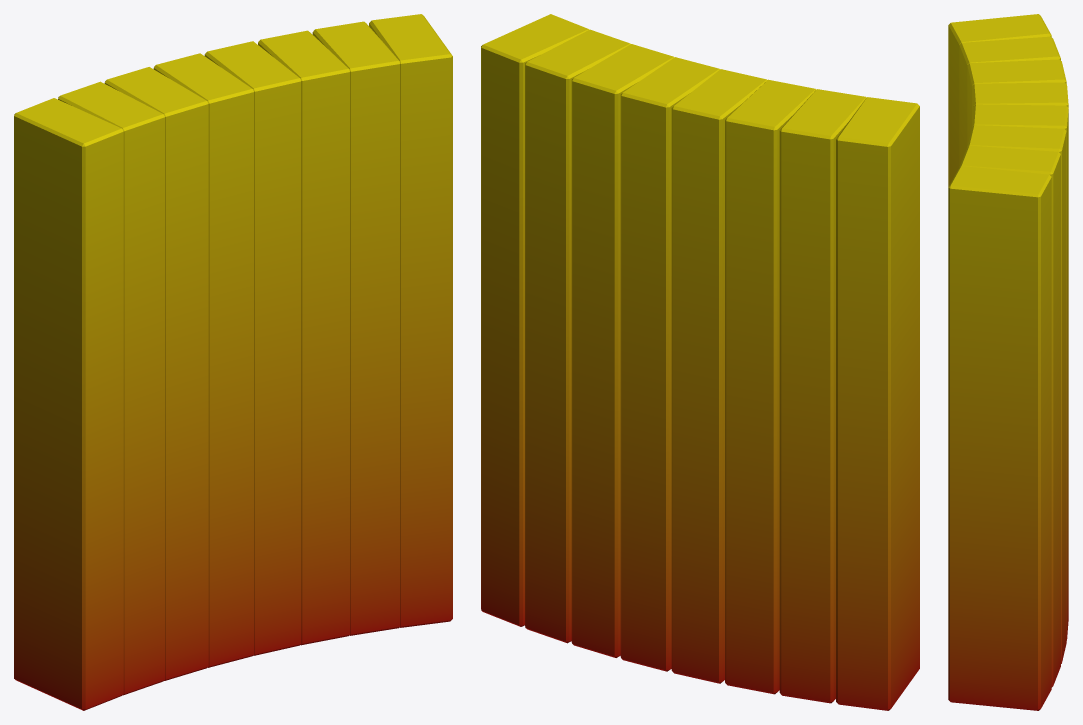
File: wall_arc.glb
The picture shows the model from 3 angles, left to right: view 1: azimuth 30°, elevation 25°; view 2: azimuth 150°, elevation 25°; view 3: azimuth 270°, elevation 25°; orthographic projection. The views are drawn at different scales.
Parts seen in each view (by area): view 1: wall_arc; view 2: wall_arc; view 3: wall_arc.
Boxes of the visible parts, x1=… form: wall_arc: x1=14, y1=14, x2=452, y2=710; wall_arc: x1=481, y1=14, x2=919, y2=710; wall_arc: x1=948, y1=14, x2=1068, y2=710.
Size of what is drawn, in the model's own units: 2.72 by 3.6 by 0.7589.
